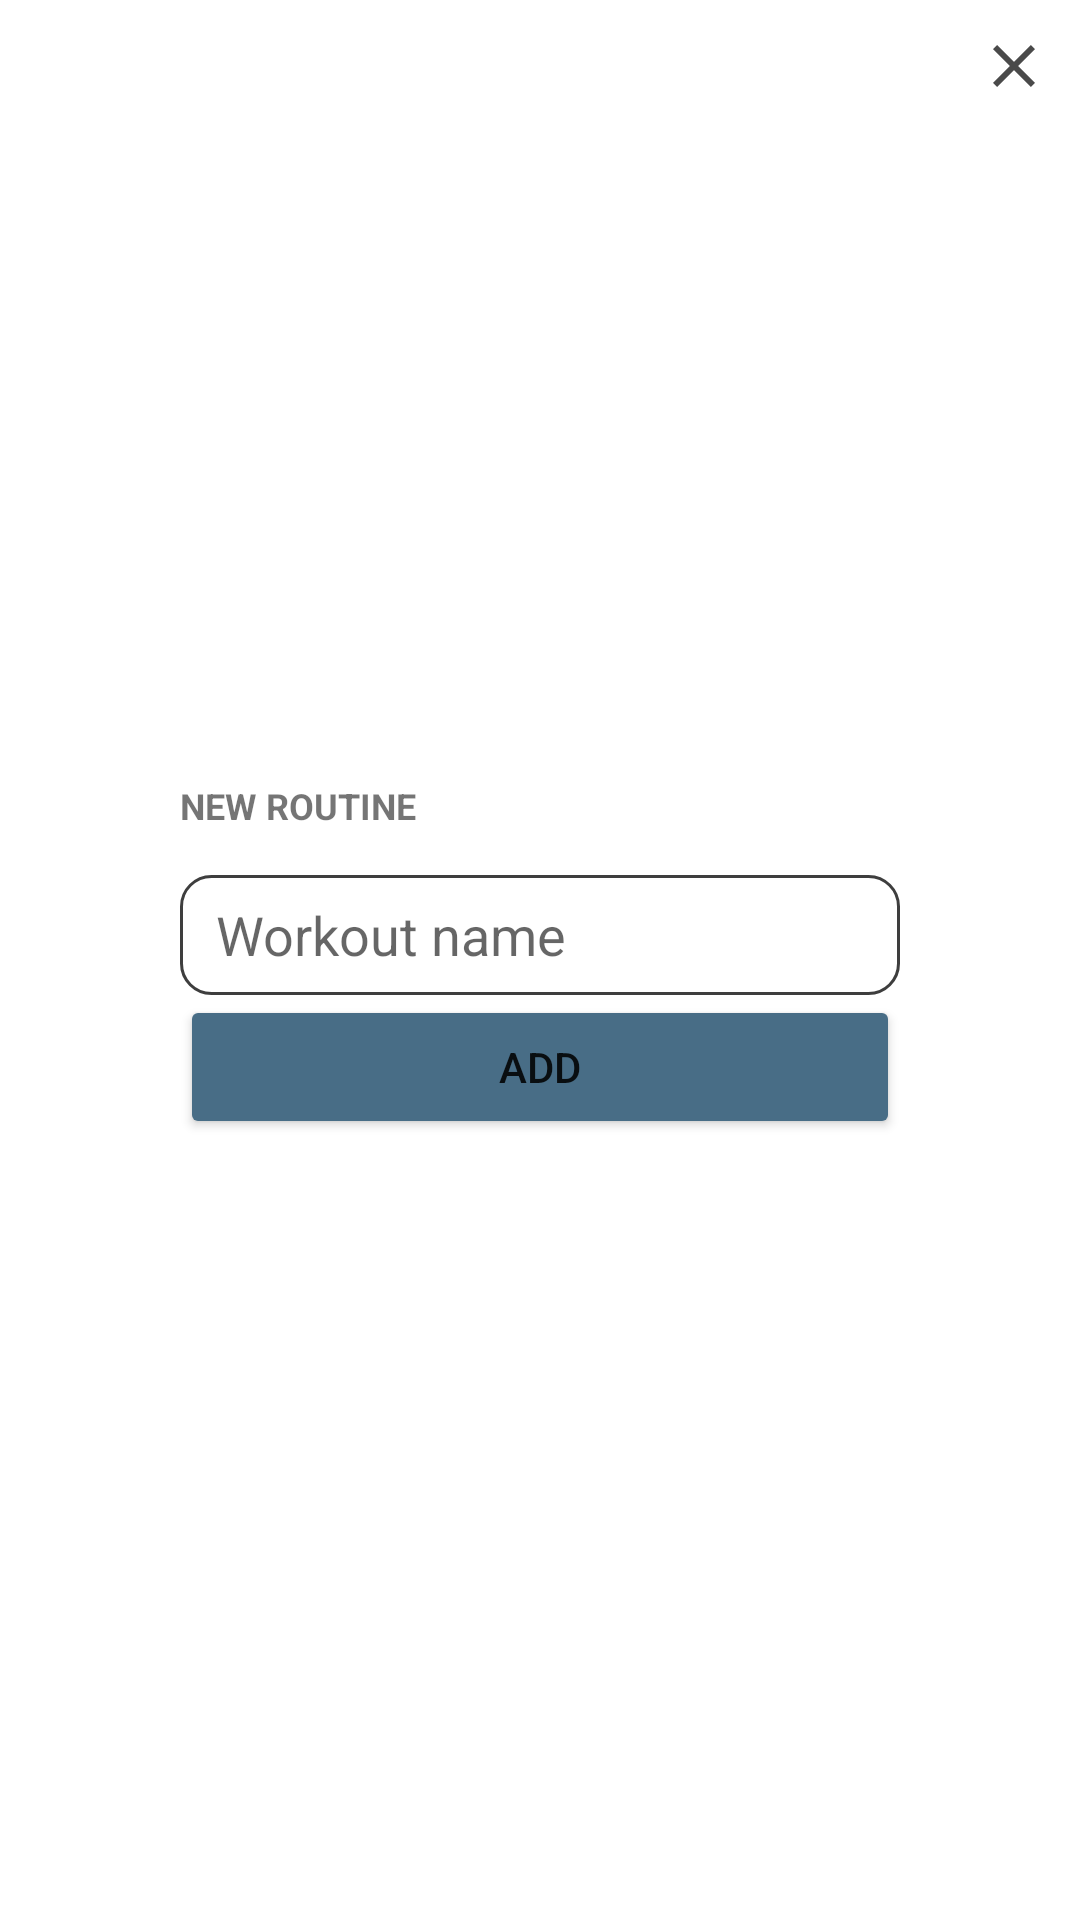

Where to tap for icons on this 1080*1920 app screen, as point (x, y):
close add workout pop up modal: point (1014, 66)
